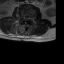CCS_severe_stenosis: (25, 15, 27, 22)
LFS_stenosis: (29, 15, 31, 21)
LLS_normal: (27, 15, 29, 21)
RFS_stenosis: (21, 13, 23, 19)
RLS_normal: (23, 14, 25, 21)
